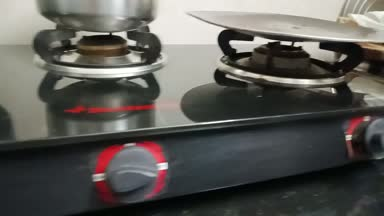flame_gas_off: (40, 23, 174, 204)
